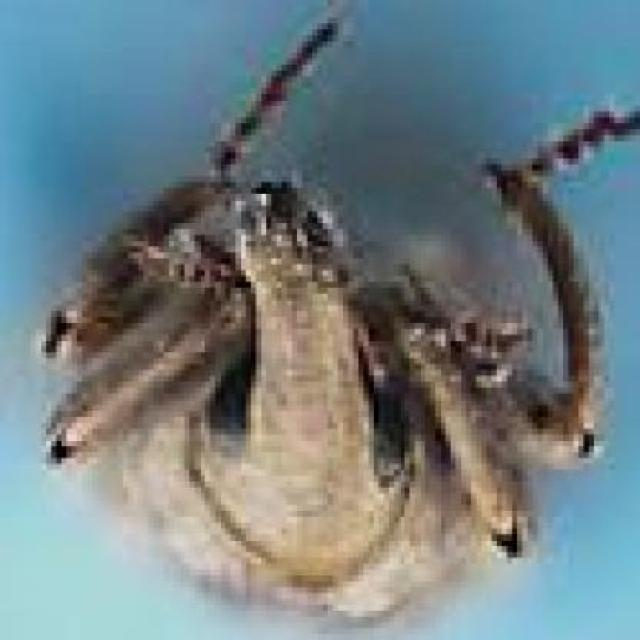rice-bug: (28, 34, 603, 628)
